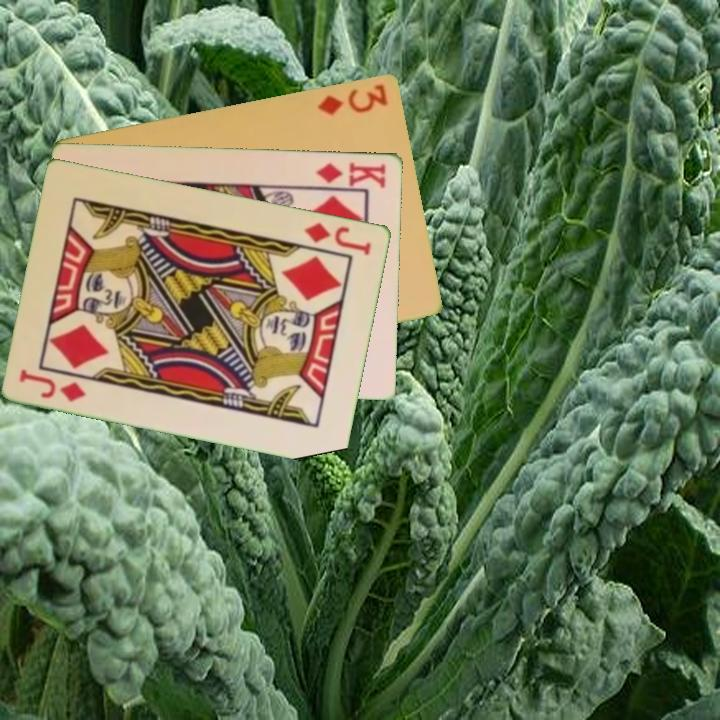3d: (314, 80, 391, 119)
Jd: (301, 218, 375, 258), (16, 365, 90, 405)
Kd: (313, 158, 389, 190)
